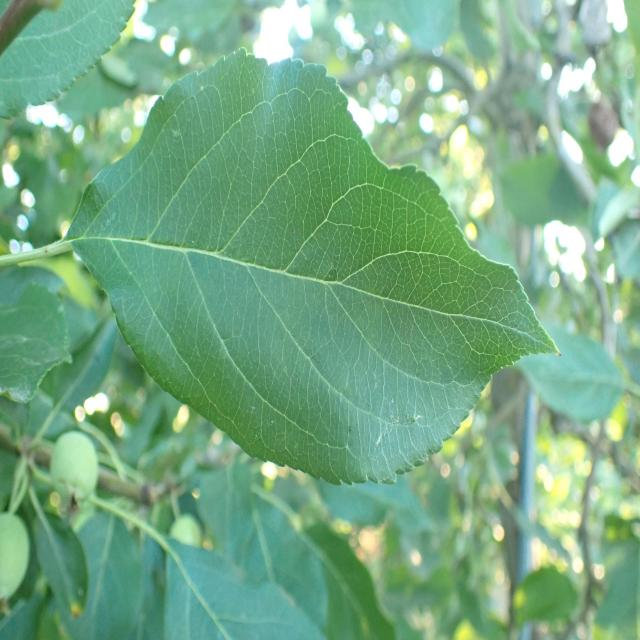healthy: (66, 46, 560, 485), (0, 0, 136, 119), (0, 274, 73, 404)
